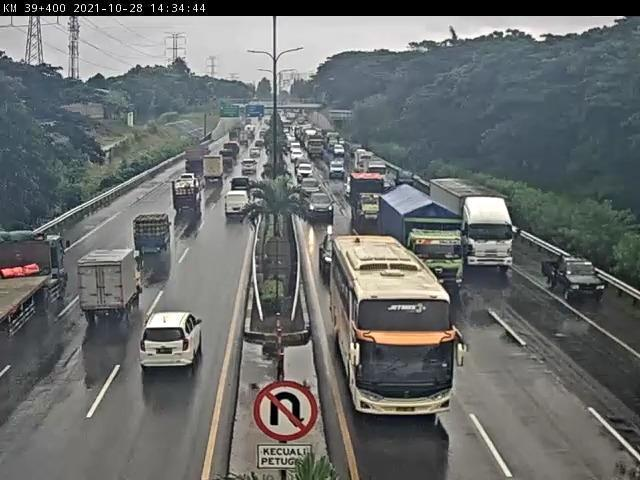bus: (331, 229, 480, 426)
car: (133, 305, 223, 386), (536, 243, 607, 311), (129, 208, 181, 271), (220, 187, 258, 225), (310, 185, 341, 225), (319, 228, 341, 274)
truck: (1, 230, 73, 347), (442, 178, 528, 269), (71, 249, 149, 334), (394, 191, 470, 272), (347, 173, 391, 230), (170, 174, 206, 224)
